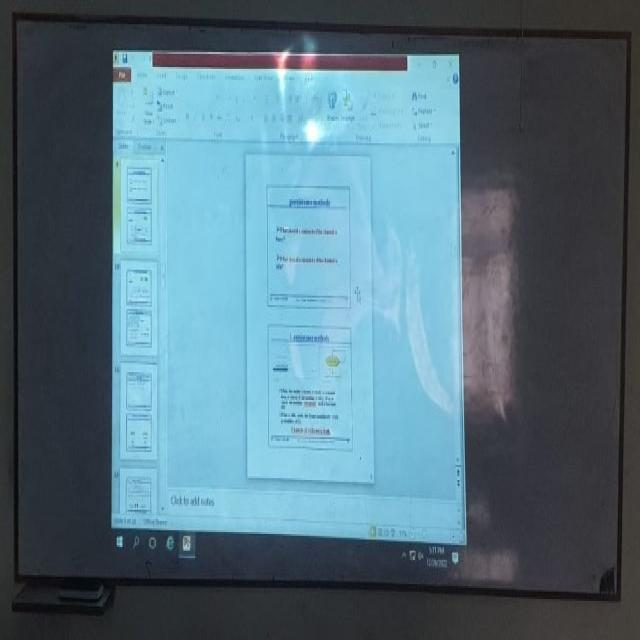Slide: (112, 42, 466, 577)
White-board: (15, 14, 629, 600)
